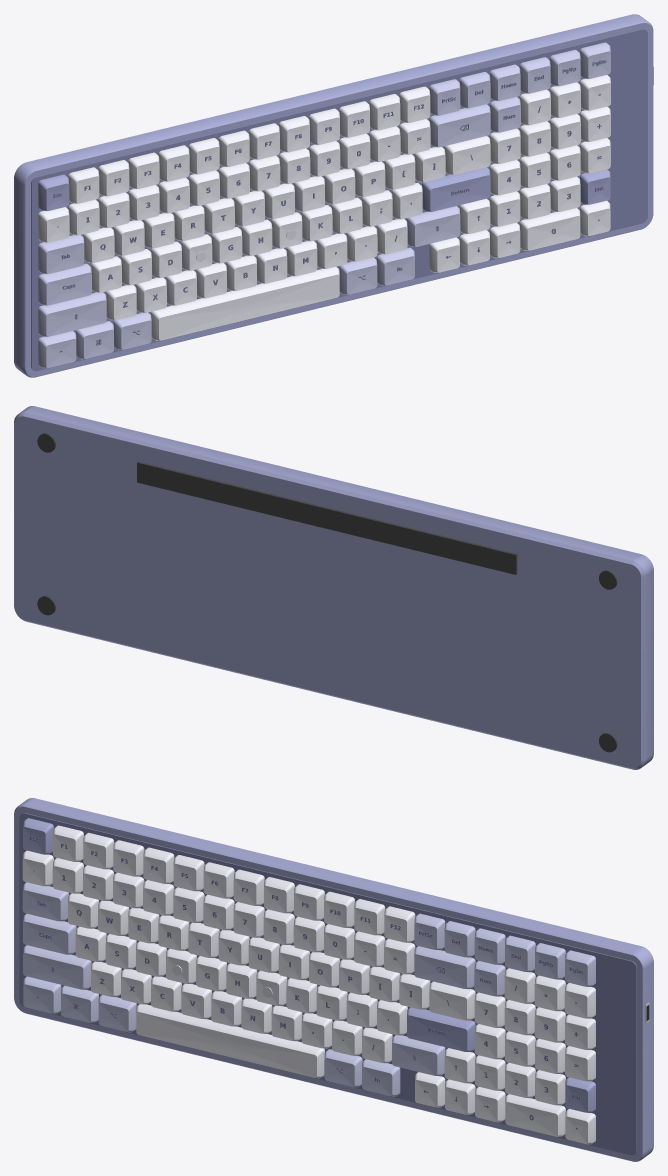
The model's file is flow2_100_nebula.glb.
3 renders of one model, top to bottom at view 1: azimuth 30°, elevation 25°; view 2: azimuth 150°, elevation 25°; view 3: azimuth 330°, elevation 25°, orthographic.
Visible parts, largest first — view 1: keycaps_alpha, keycaps_mod, case, key_well, keycaps_accent, legends; view 2: case, feet; view 3: keycaps_alpha, keycaps_mod, case, key_well, keycaps_accent, legends.
Part boxes in pixels (x1,y1,x2,y2): keycaps_alpha: (38, 75, 610, 340); keycaps_mod: (38, 42, 610, 368); case: (14, 14, 653, 377); key_well: (31, 29, 647, 371); keycaps_accent: (38, 167, 610, 211); legends: (53, 60, 606, 352); case: (14, 406, 653, 769); feet: (37, 433, 617, 752); keycaps_alpha: (22, 825, 595, 1144); keycaps_mod: (22, 882, 595, 1096); case: (14, 798, 653, 1161); key_well: (19, 813, 636, 1155); keycaps_accent: (23, 818, 595, 1112); legends: (30, 836, 583, 1129).
Bounding box in the file's own units: 399 × 126 × 21.51.
